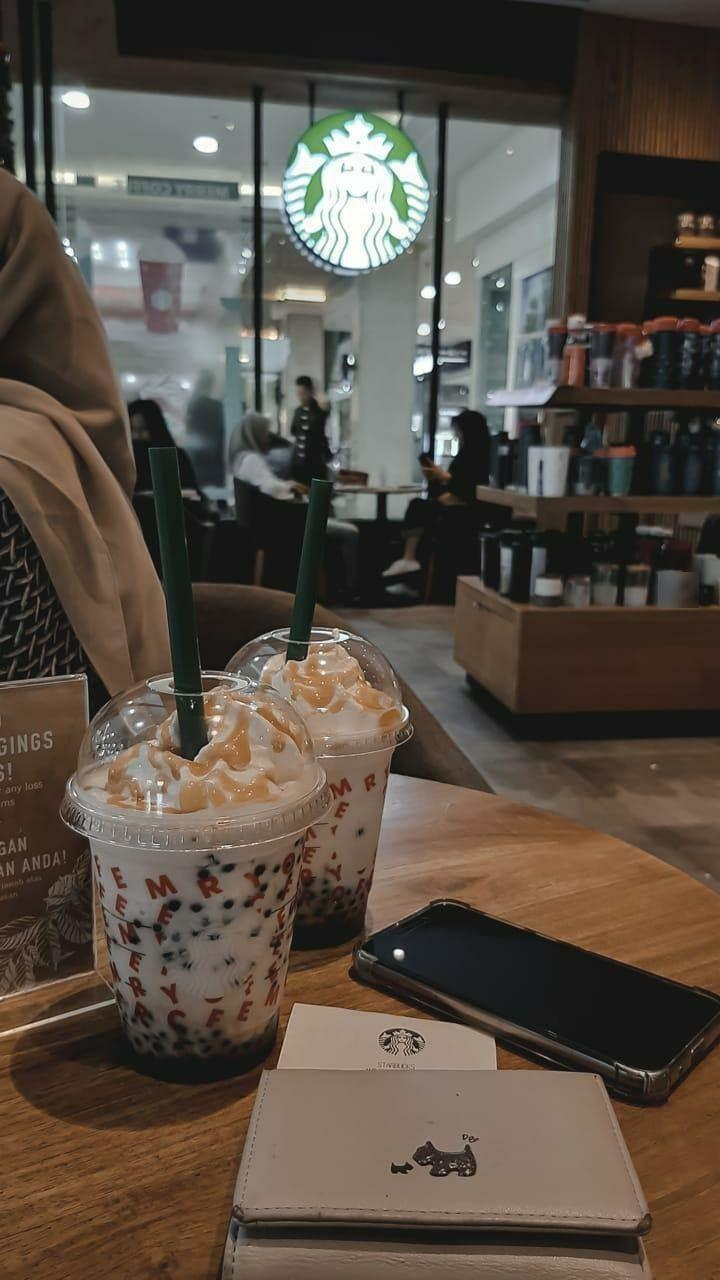cup-disposable: (59, 670, 332, 1083), (222, 625, 410, 955)
